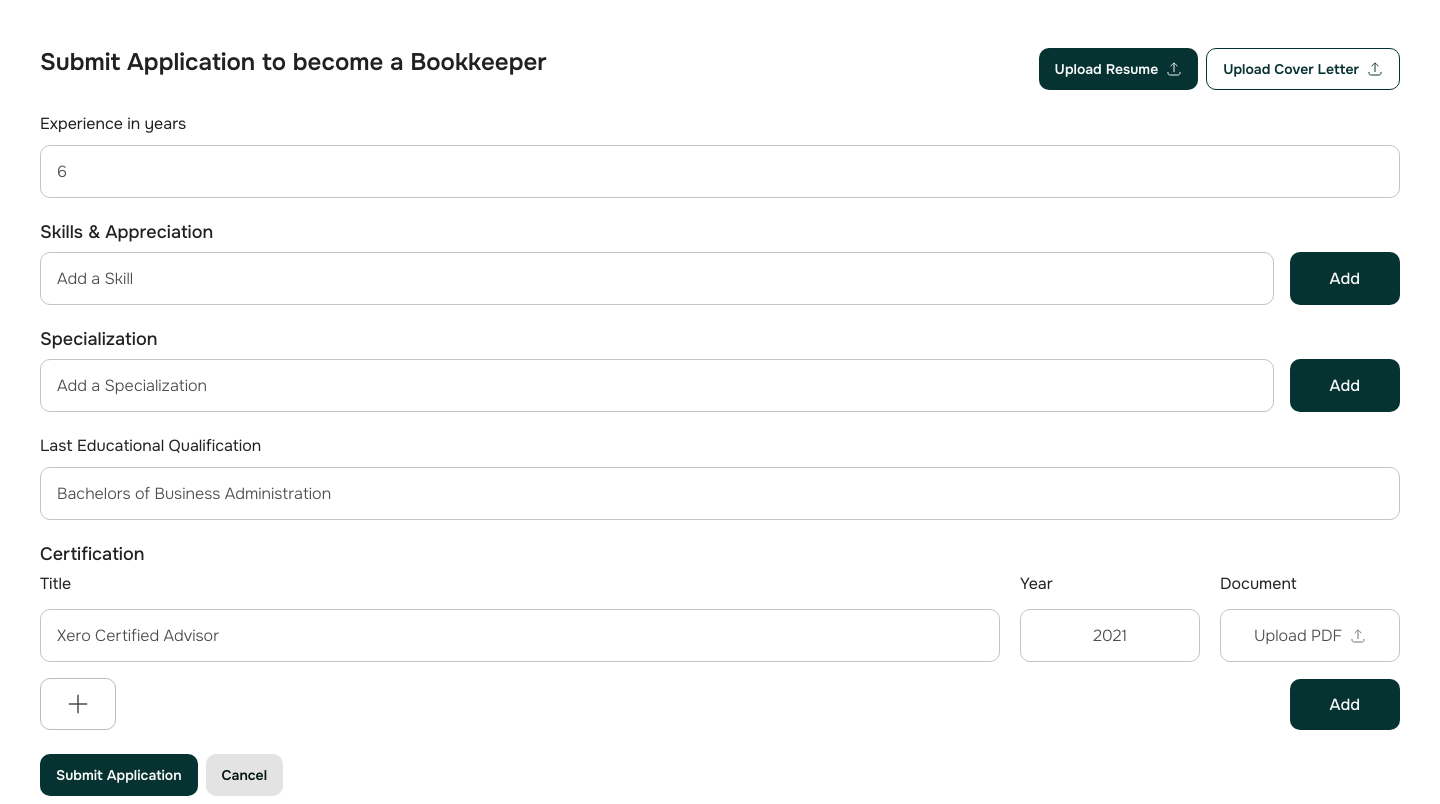
adds and removes chips without duplicates
The width and height of the screenshot is (1440, 804).
Type "  Bank Reconciliation " into the field labelled "Skills & Appreciation" at (657, 279), box [40,252,1274,305]
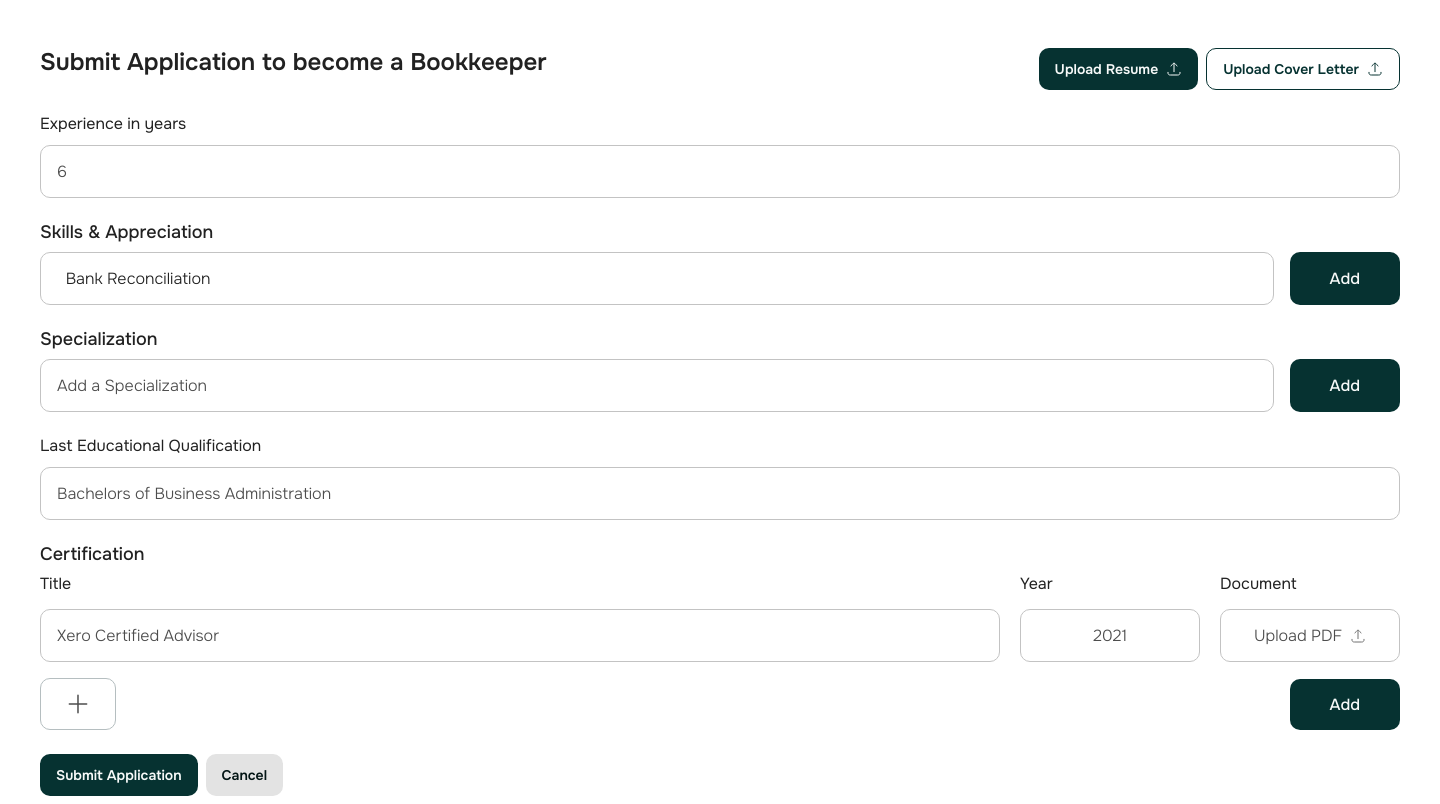
Click the button with aria-label "Add skill" at (1345, 279), box [1290,252,1400,305]
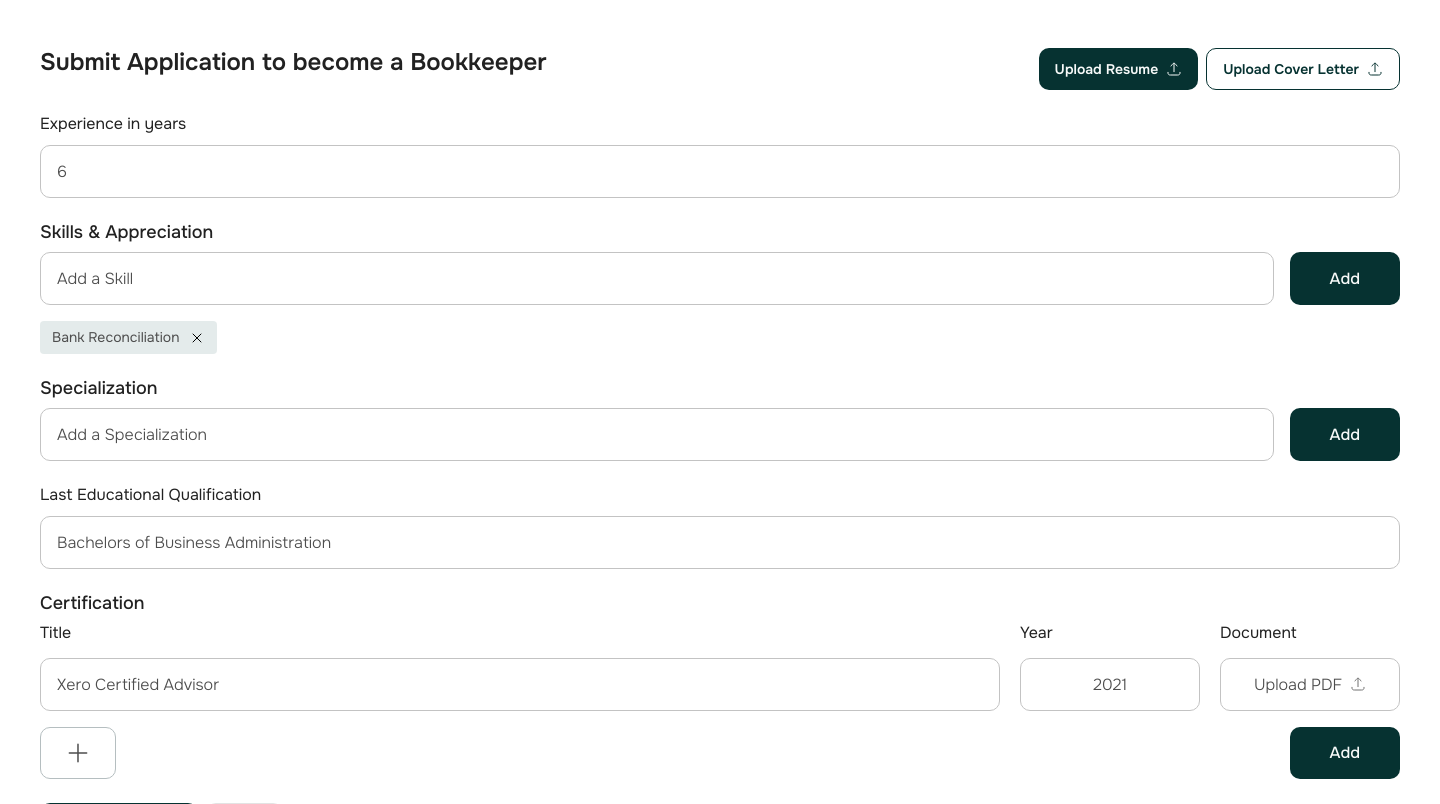
Type "bank reconciliation" into the field labelled "Skills & Appreciation" at (657, 279), box [40,252,1274,305]
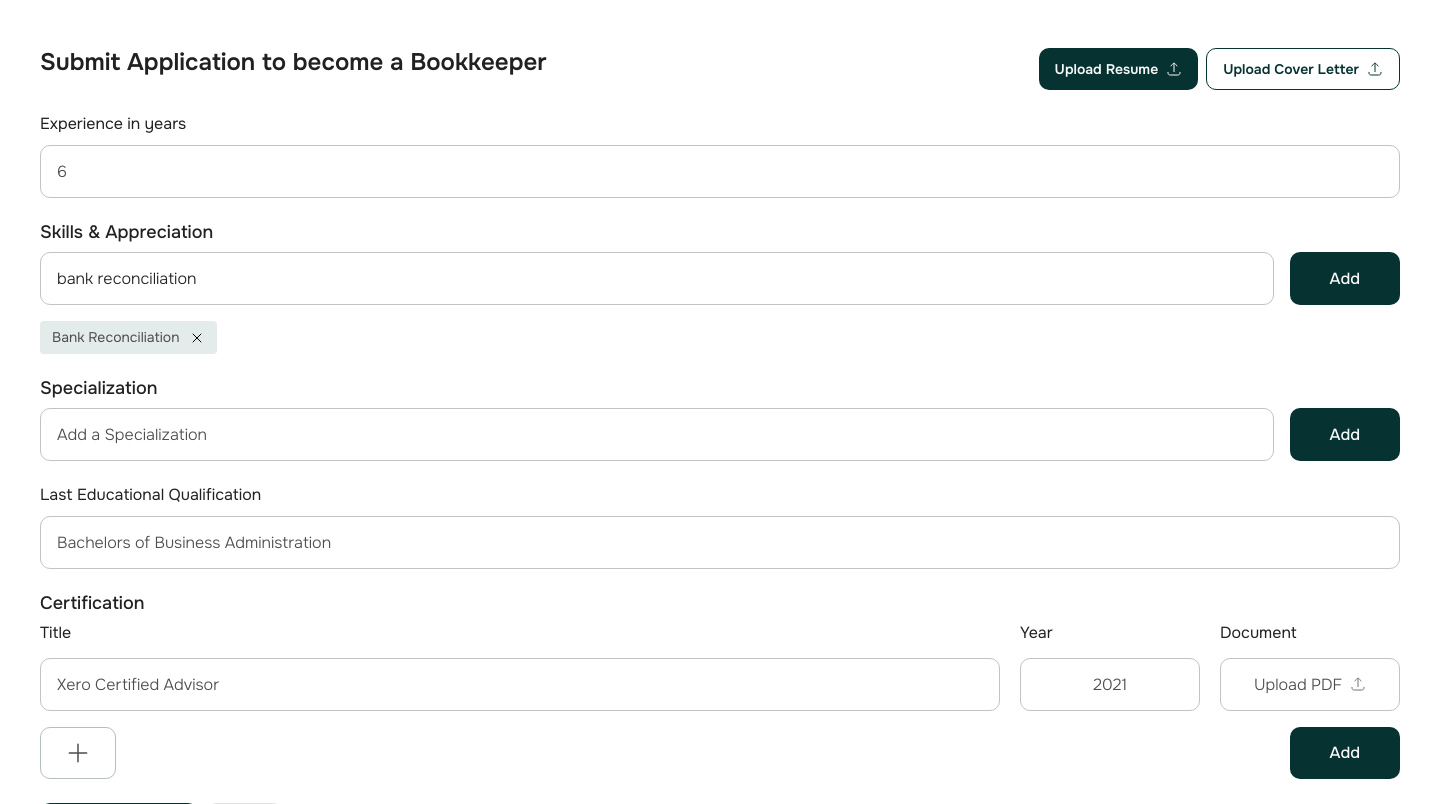
Press Enter in the field labelled "Skills & Appreciation", box [40,252,1274,305]
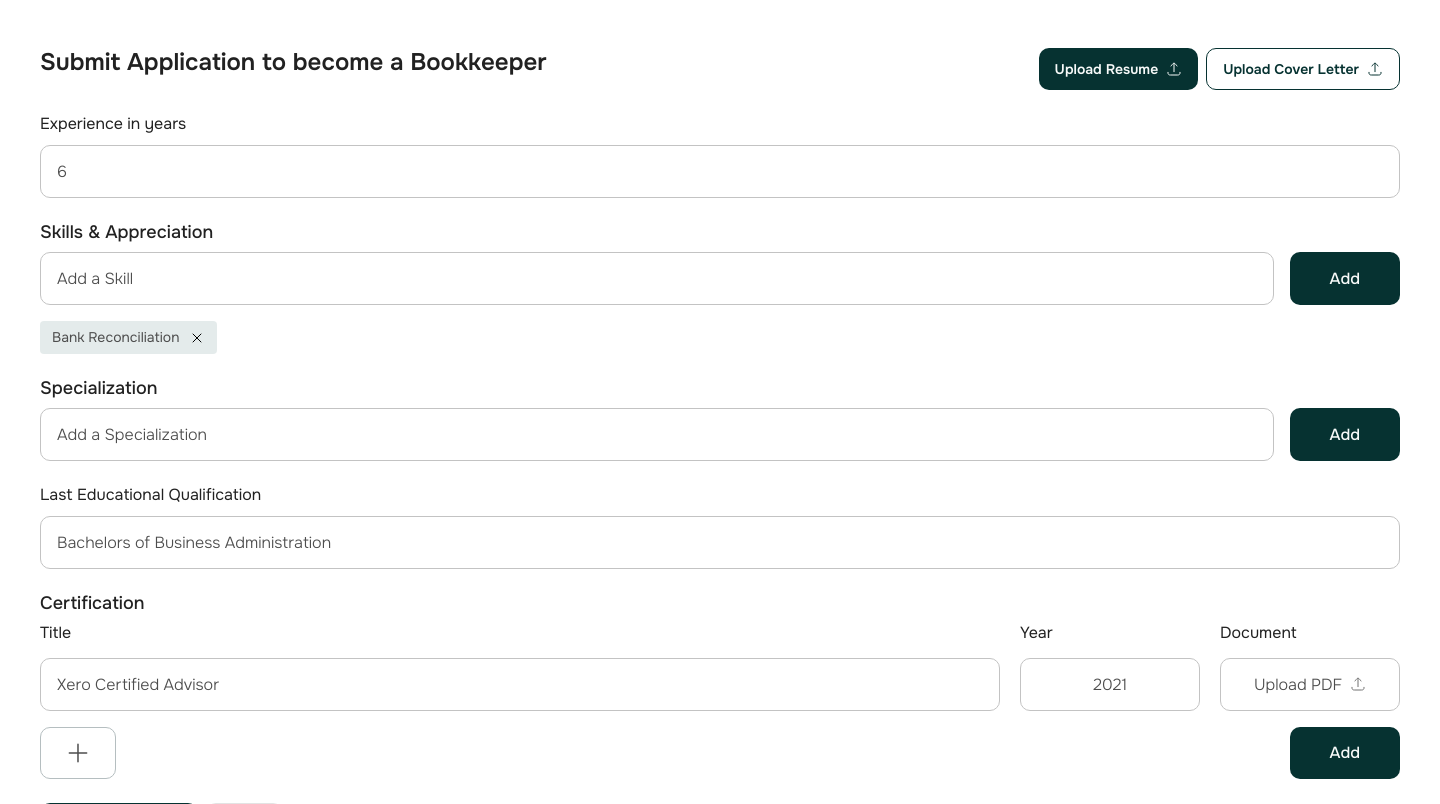
Expected: the number of list items is 1, [40,321,217,354]
Expected: the field labelled "Skills & Appreciation" is empty, [40,252,1274,305]
Click the button named "Remove Bank Reconciliation" at (197, 338), box [189,330,205,346]
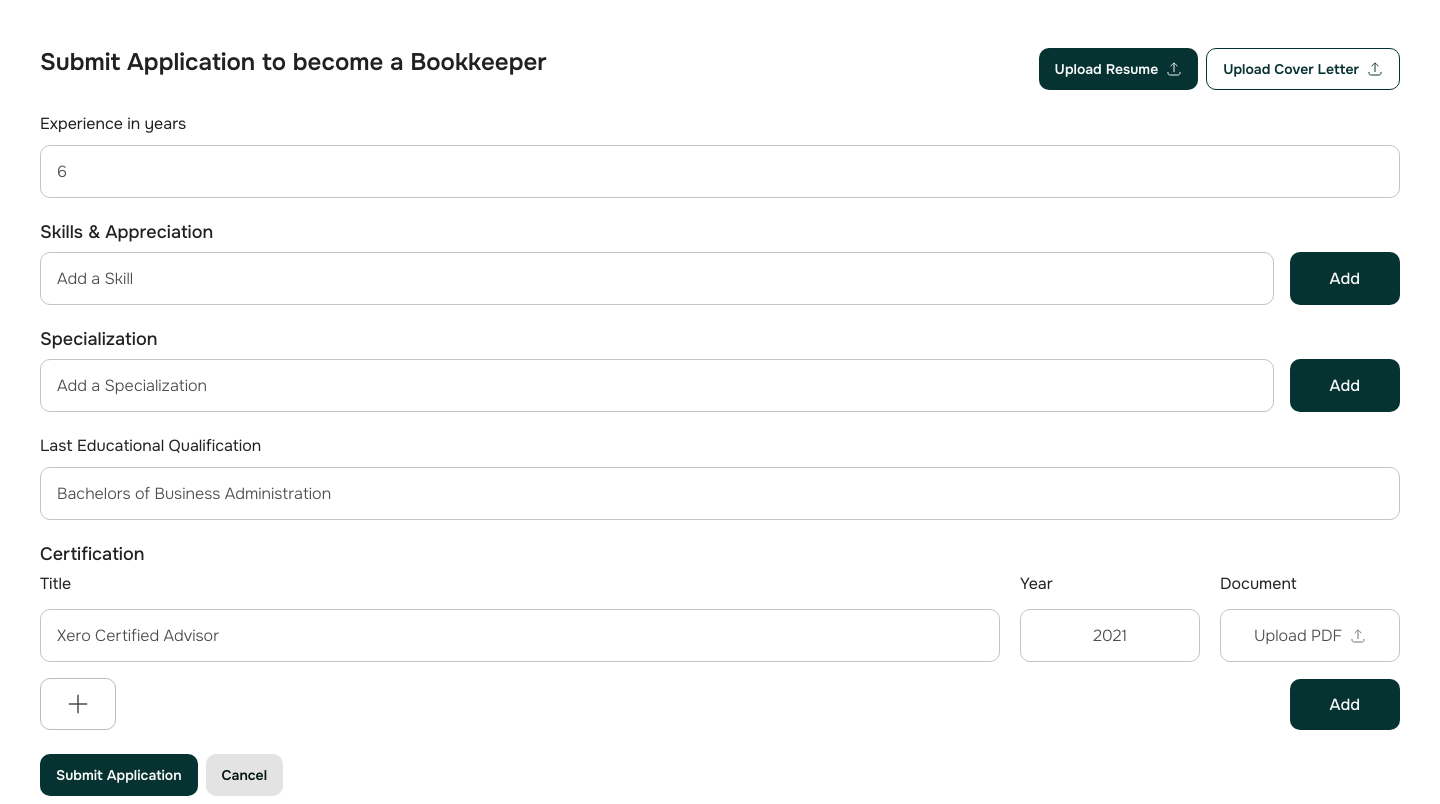
Expected: the list item "Bank Reconciliation" is gone
